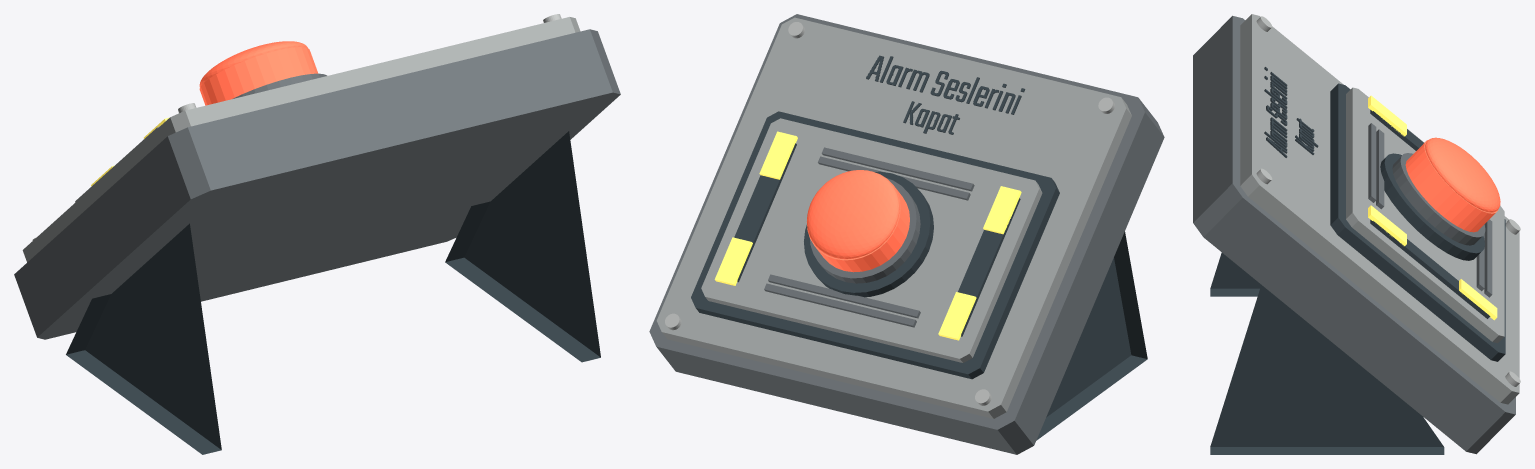
Rendered from ALARM_SESLERINI_KAPAT_11_ADAY.glb.
3 renders of one model, left to right at view 1: azimuth 30°, elevation 25°; view 2: azimuth 150°, elevation 25°; view 3: azimuth 270°, elevation 25°, orthographic. The views are drawn at different scales.
Parts seen in each view (by area): view 1: Mute_pedestal_housing, Side_support_-1.08, Side_support_1.08, Mute_pedestal_top_cover, MOVING_MUTE_BUTTON_RED, Button_red_curved_face; view 2: Mute_pedestal_top_cover, Mute_instrument_plate, Mute_pedestal_housing, Mute_instrument_recess, Side_support_-1.08, Button_red_curved_face, Button_recess, Mute_caption_lettering, Button_outer_bezel, MOVING_MUTE_BUTTON_RED, Hazard_stripe_black_1, Hazard_stripe_black_-1 (+8 smaller); view 3: Mute_pedestal_housing, Mute_pedestal_top_cover, Side_support_1.08, Mute_instrument_plate, Mute_instrument_recess, Button_red_curved_face, MOVING_MUTE_BUTTON_RED, Button_recess, Button_outer_bezel, Mute_caption_lettering, Side_support_-1.08, Hazard_stripe_black_1 (+8 smaller).
Part boxes in pixels (x1=…): Mute_pedestal_housing: x1=14, y1=29, x2=620, y2=339; Side_support_-1.08: x1=66, y1=223, x2=221, y2=454; Side_support_1.08: x1=445, y1=131, x2=600, y2=362; Mute_pedestal_top_cover: x1=22, y1=17, x2=580, y2=262; MOVING_MUTE_BUTTON_RED: x1=199, y1=47, x2=318, y2=105; Button_red_curved_face: x1=199, y1=41, x2=307, y2=87; Mute_pedestal_top_cover: x1=656, y1=17, x2=1131, y2=418; Mute_instrument_plate: x1=701, y1=118, x2=1042, y2=362; Mute_pedestal_housing: x1=649, y1=14, x2=1164, y2=454; Mute_instrument_recess: x1=691, y1=111, x2=1059, y2=379; Side_support_-1.08: x1=1036, y1=231, x2=1147, y2=440; Button_red_curved_face: x1=807, y1=170, x2=899, y2=259; Button_recess: x1=804, y1=171, x2=933, y2=297; Mute_caption_lettering: x1=866, y1=55, x2=1025, y2=134; Button_outer_bezel: x1=810, y1=178, x2=920, y2=283; MOVING_MUTE_BUTTON_RED: x1=806, y1=173, x2=909, y2=272; Hazard_stripe_black_1: x1=734, y1=143, x2=796, y2=282; Hazard_stripe_black_-1: x1=958, y1=198, x2=1020, y2=336; Mute_pedestal_housing: x1=1193, y1=15, x2=1515, y2=454; Mute_pedestal_top_cover: x1=1240, y1=14, x2=1519, y2=404; Side_support_1.08: x1=1210, y1=285, x2=1444, y2=454; Mute_instrument_plate: x1=1346, y1=87, x2=1504, y2=343; Mute_instrument_recess: x1=1330, y1=83, x2=1505, y2=361; Button_red_curved_face: x1=1425, y1=137, x2=1500, y2=212; MOVING_MUTE_BUTTON_RED: x1=1405, y1=140, x2=1498, y2=232; Button_recess: x1=1380, y1=153, x2=1484, y2=260; Button_outer_bezel: x1=1392, y1=153, x2=1485, y2=245; Mute_caption_lettering: x1=1264, y1=67, x2=1318, y2=157; Side_support_-1.08: x1=1210, y1=252, x2=1261, y2=296; Hazard_stripe_black_1: x1=1370, y1=219, x2=1490, y2=318.
Bounding box in the file's own units: 2.45 × 1.77 × 1.89.
